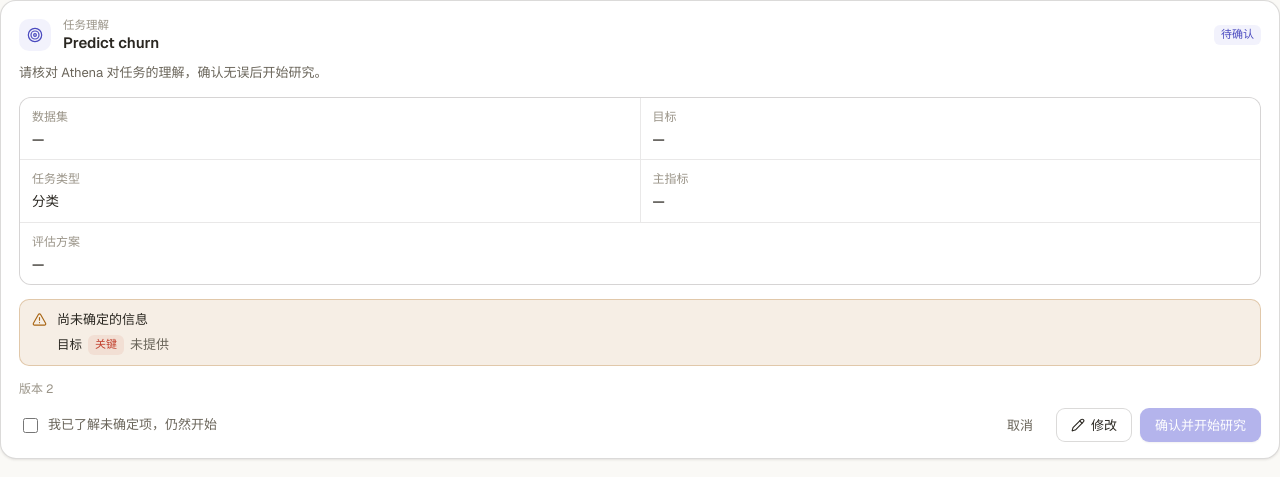
Test: IntentPreviewCard › requires acknowledgement before confirming critical unresolved items
Check: the button "确认并开始研究" is disabled, box [1140,408,1261,442]
Click the checkbox labelled "我已了解未确定项，仍然开始": (30, 425) [23,418,38,433]
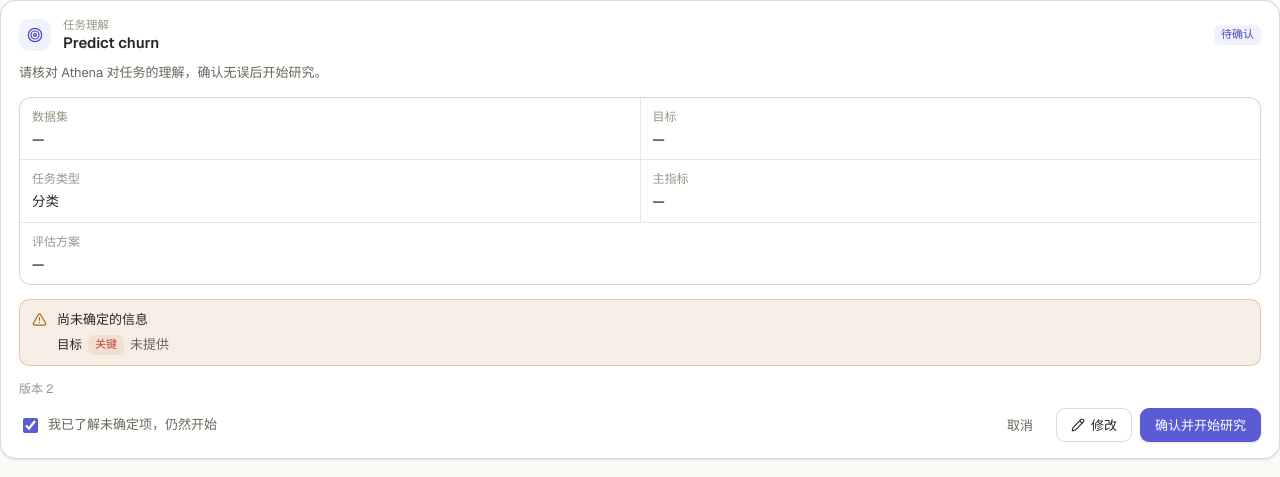
Check: the button "确认并开始研究" is enabled, box [1140,408,1261,442]
